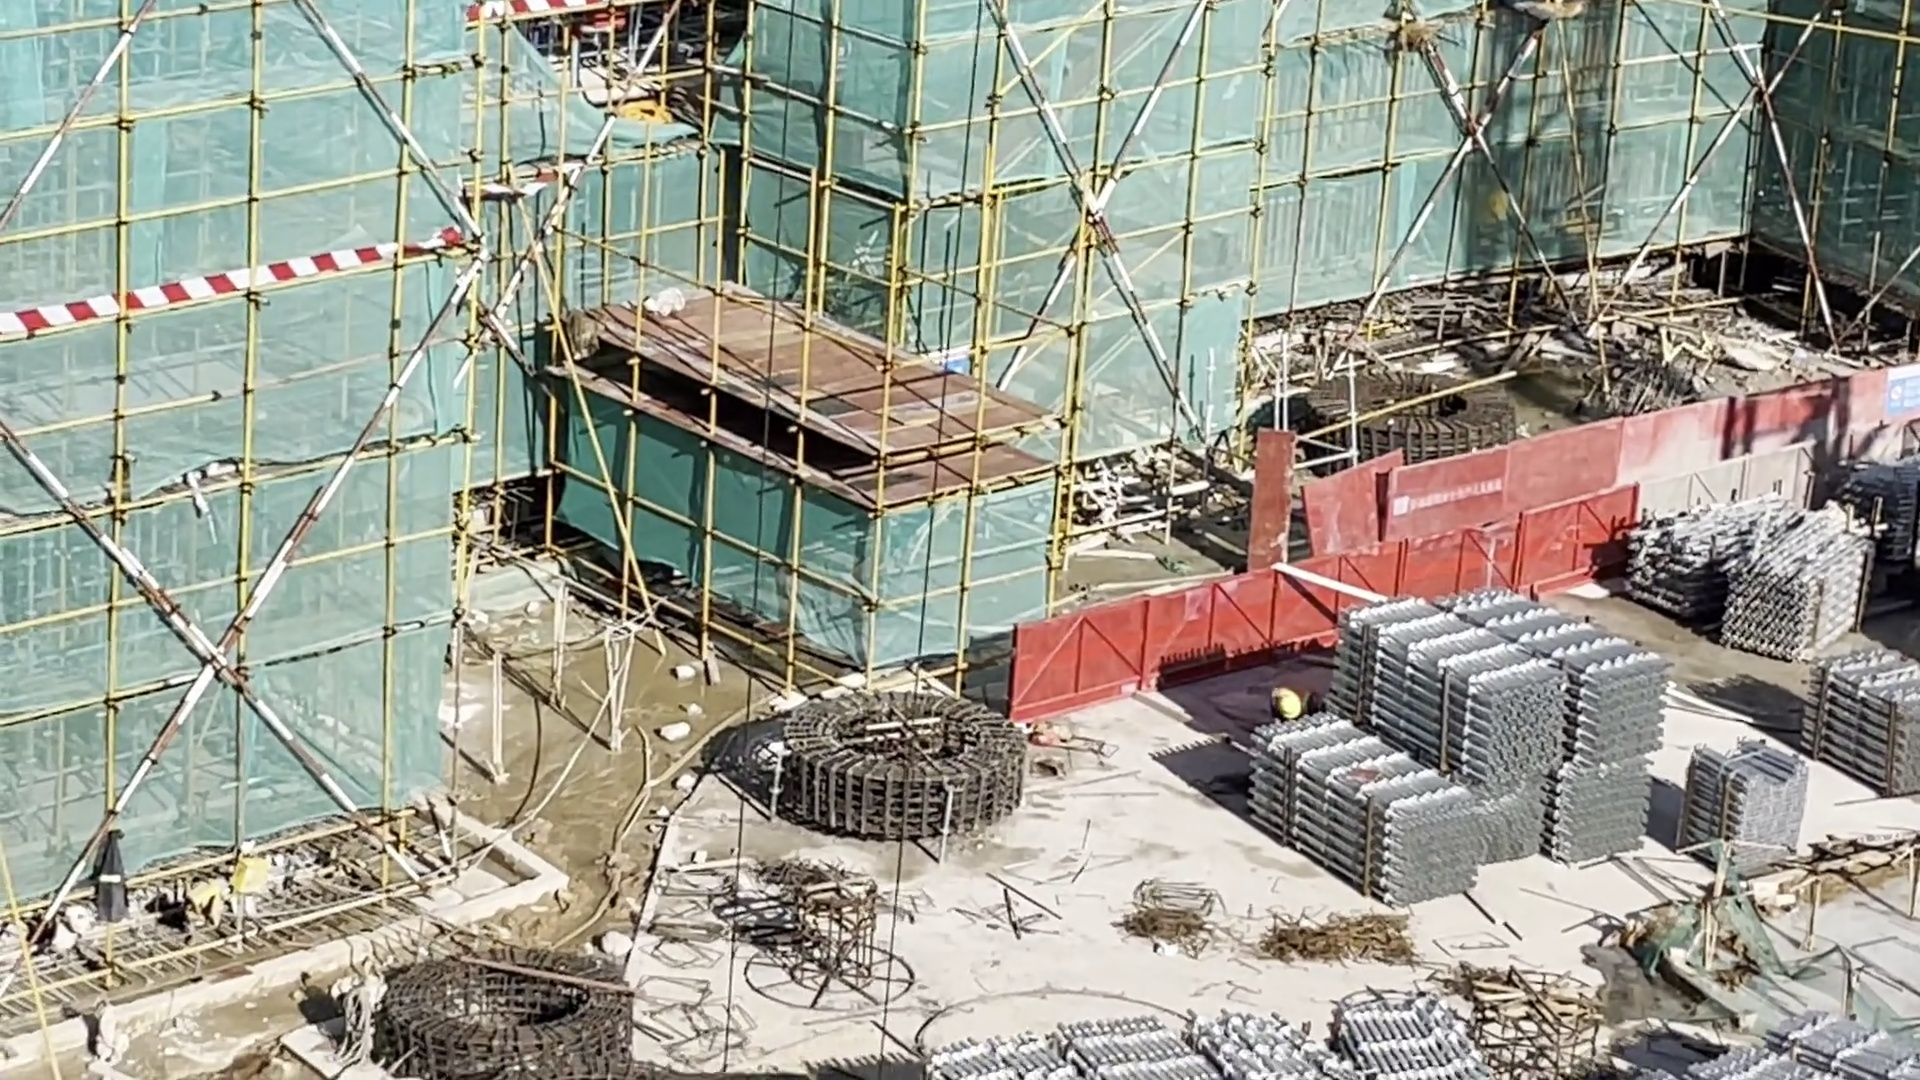fence: (1013, 369, 1920, 720)
scaffold: (1245, 588, 1673, 905), (1636, 496, 1879, 658), (1683, 735, 1805, 884), (1801, 638, 1920, 789)
